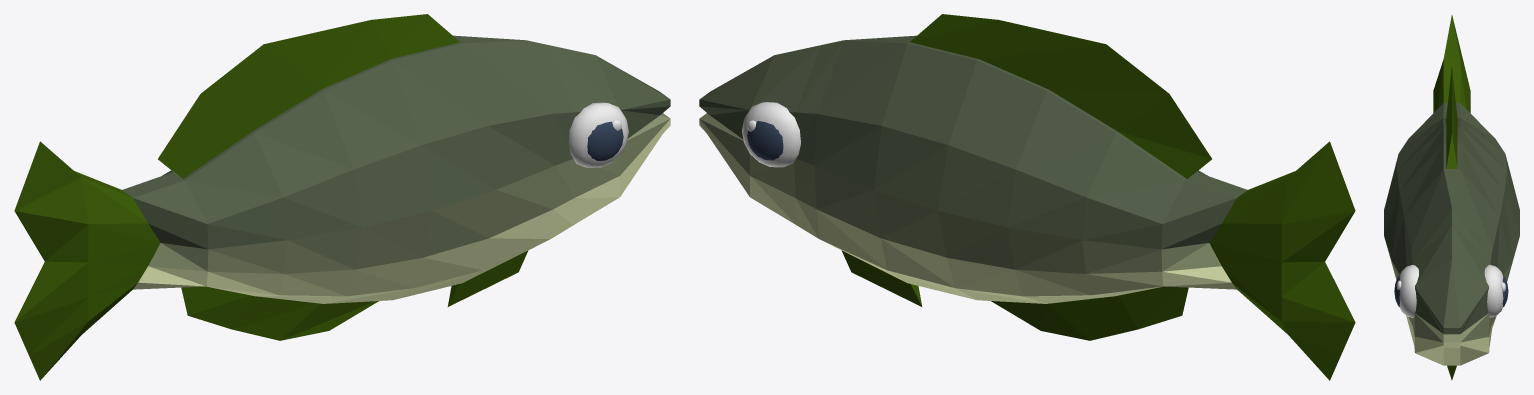
Rendered from smallmouthbass.fbx.
3 renders of one model, left to right at view 1: azimuth 30°, elevation 25°; view 2: azimuth 150°, elevation 25°; view 3: azimuth 270°, elevation 25°, orthographic. The views are drawn at different scales.
Visible parts, largest first — view 1: pCube1, pCube2, pCube3; view 2: pCube1, EYE1_pCube3; view 3: pCube1, EYE1_pCube3, pCube2.
Boxes of the visible parts, x1,y1,x2,y2 form: pCube1: [14, 14, 670, 380]; pCube2: [568, 102, 628, 167]; pCube3: [587, 121, 623, 160]; pCube1: [699, 14, 1355, 380]; EYE1_pCube3: [742, 102, 800, 167]; pCube1: [1384, 15, 1519, 380]; EYE1_pCube3: [1484, 265, 1508, 317]; pCube2: [1399, 264, 1418, 317].
Bounding box in the file's own units: 1.56 × 0.7061 × 0.3707.
